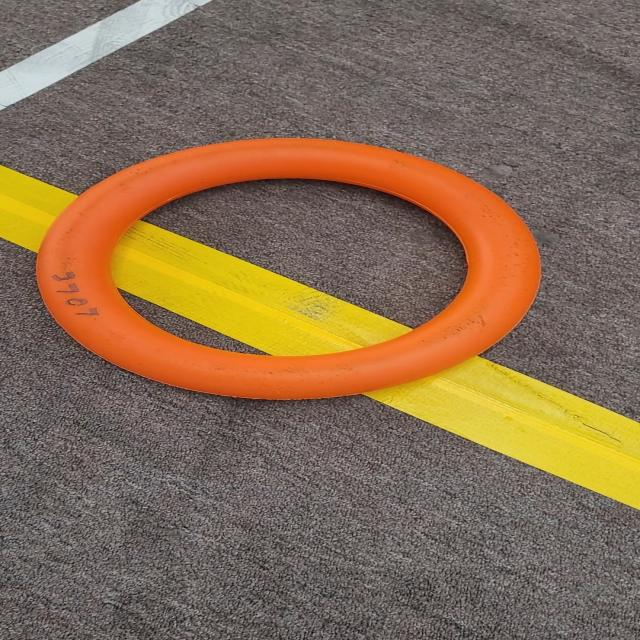note: (28, 131, 559, 409)
